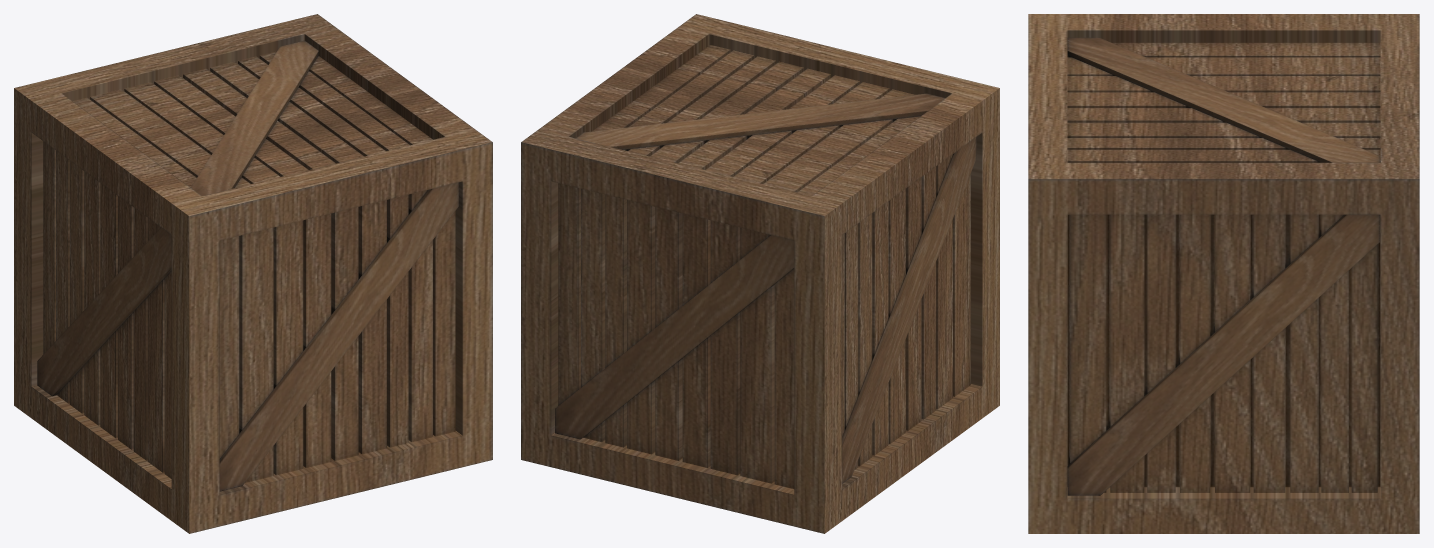
File: Caisse.FBX
3 views of the same model, side by side, from view 1: azimuth 30°, elevation 25°; view 2: azimuth 150°, elevation 25°; view 3: azimuth 270°, elevation 25° (orthographic). The views are drawn at different scales.
Visible parts, largest first — view 1: Box; view 2: Box; view 3: Box.
Boxes of the visible parts, box(x1,y1,x2,y2) form: Box: box(14, 14, 492, 533); Box: box(521, 14, 999, 533); Box: box(1028, 14, 1419, 533).
Bounding box in the file's own units: 501 × 501 × 501.
